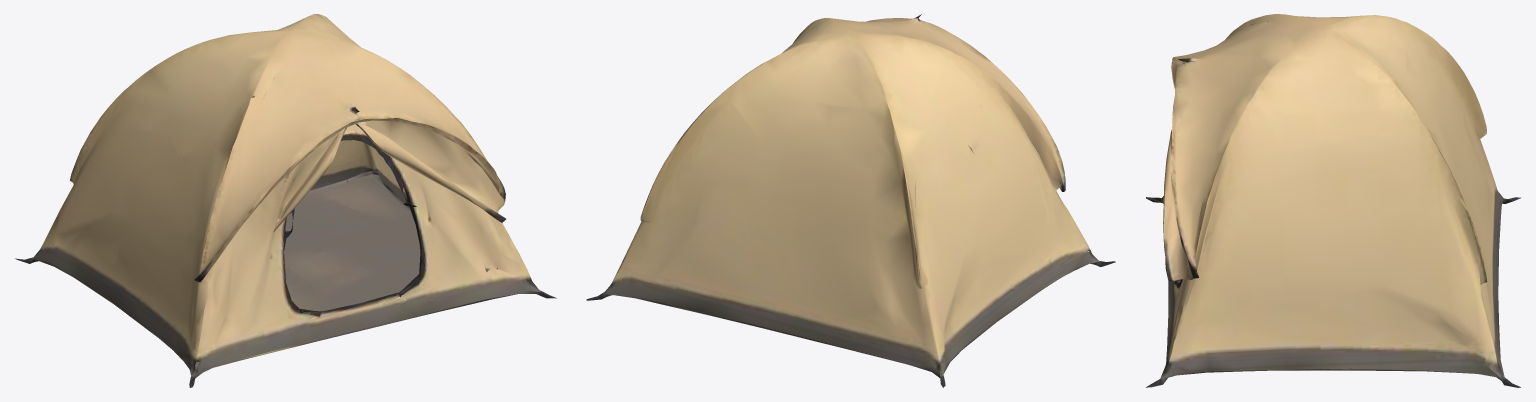
The model's file is tent.glb.
3 renders of one model, left to right at view 1: azimuth 30°, elevation 25°; view 2: azimuth 150°, elevation 25°; view 3: azimuth 270°, elevation 25°, orthographic. The views are drawn at different scales.
Parts seen in each view (by area): view 1: tent; view 2: tent; view 3: tent.
Boxes of the visible parts, x1,y1,x2,y2 form: tent: (15, 14, 556, 387); tent: (586, 14, 1115, 387); tent: (1146, 14, 1520, 387).
Bounding box in the file's own units: 2.6 × 1.7 × 2.16.
1 material, 1 textured.
